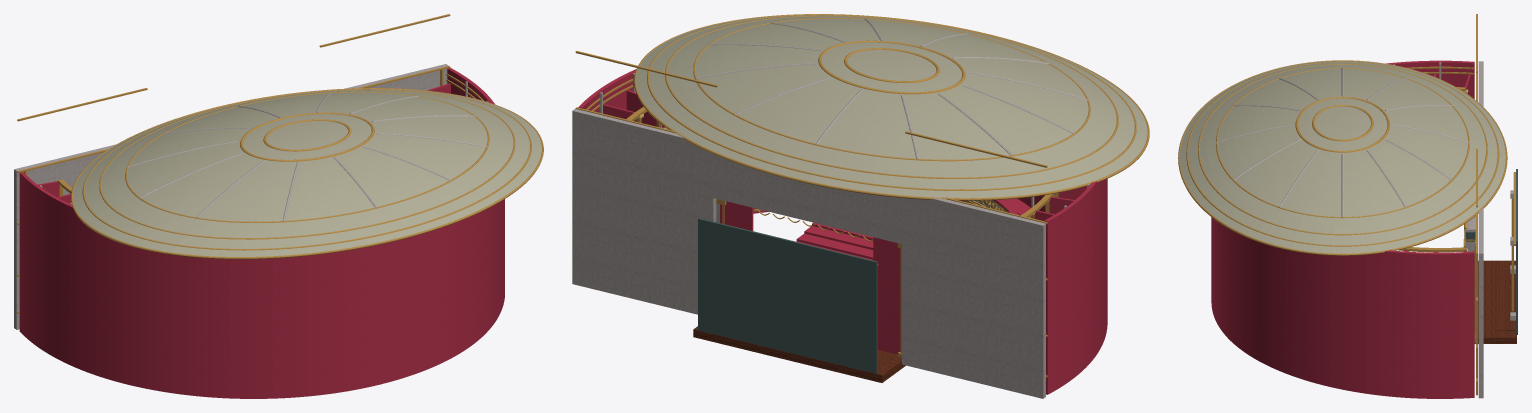
Rendered from venue.glb.
3 renders of one model, left to right at view 1: azimuth 30°, elevation 25°; view 2: azimuth 150°, elevation 25°; view 3: azimuth 270°, elevation 25°, orthographic. The views are drawn at different scales.
Parts seen in each view (by area): view 1: Shell velvet, Ceiling ceiling, Ceiling gold, Front wall plaster, Ceiling plaster, Front wall gold; view 2: Ceiling ceiling, Front wall plaster, Stage set panel, Shell velvet, Ceiling gold, Curtain velvet, Ceiling plaster, Stage wood, Decks carpet, Front wall gold, Side boxes velvet; view 3: Ceiling ceiling, Shell velvet, Ceiling gold, Stage wood, Ceiling plaster, Front wall plaster, Stage set wood, Front wall gold, Stage set gold, Side boxes gold, Stage set panel.
Boxes of the visible parts, x1=… form: Shell velvet: x1=19, y1=67, x2=504, y2=398; Ceiling ceiling: x1=72, y1=89, x2=541, y2=256; Ceiling gold: x1=71, y1=88, x2=543, y2=259; Front wall plaster: x1=14, y1=64, x2=448, y2=329; Ceiling plaster: x1=127, y1=92, x2=487, y2=221; Front wall gold: x1=17, y1=14, x2=450, y2=313; Ceiling ceiling: x1=636, y1=15, x2=1147, y2=198; Front wall plaster: x1=572, y1=108, x2=1045, y2=398; Stage set panel: x1=698, y1=218, x2=877, y2=373; Shell velvet: x1=578, y1=69, x2=1107, y2=394; Ceiling gold: x1=634, y1=14, x2=1149, y2=200; Curtain velvet: x1=720, y1=201, x2=900, y2=354; Ceiling plaster: x1=695, y1=18, x2=1087, y2=159; Stage wood: x1=693, y1=326, x2=905, y2=382; Decks carpet: x1=796, y1=198, x2=1030, y2=260; Front wall gold: x1=575, y1=51, x2=1047, y2=377; Side boxes velvet: x1=603, y1=90, x2=1086, y2=220; Ceiling ceiling: x1=1180, y1=61, x2=1505, y2=253; Shell velvet: x1=1211, y1=60, x2=1474, y2=398; Ceiling gold: x1=1178, y1=60, x2=1507, y2=255; Stage wood: x1=1475, y1=260, x2=1516, y2=343; Ceiling plaster: x1=1216, y1=68, x2=1469, y2=217; Front wall plaster: x1=1478, y1=61, x2=1483, y2=398; Stage set wood: x1=1497, y1=267, x2=1514, y2=330; Front wall gold: x1=1476, y1=14, x2=1477, y2=395; Stage set gold: x1=1511, y1=172, x2=1515, y2=311; Side boxes gold: x1=1398, y1=87, x2=1465, y2=252; Stage set panel: x1=1516, y1=169, x2=1517, y2=334.
Size of the model in its own units: 28.28 by 13.27 by 20.89.
9 materials, 4 textured.
